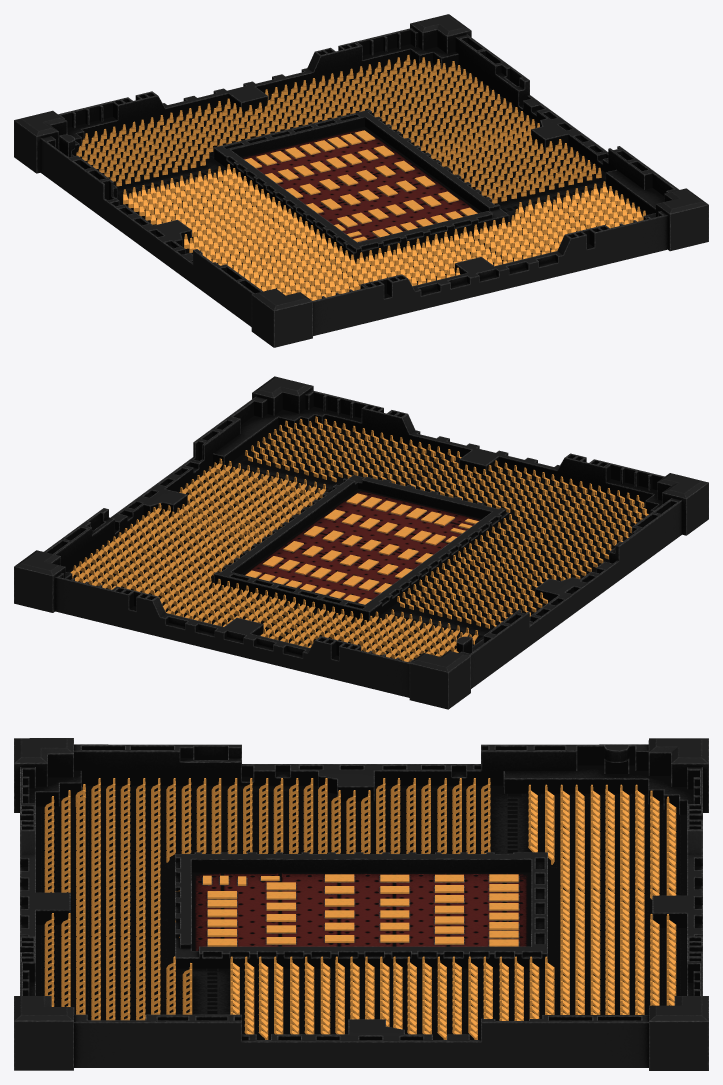
Rendered from cpu.glb.
The picture shows the model from 3 angles, top to bottom: view 1: azimuth 30°, elevation 25°; view 2: azimuth 150°, elevation 25°; view 3: azimuth 270°, elevation 25°; orthographic projection. The views are drawn at different scales.
Visible parts, largest first — view 1: Socket Body, Socket Pins; view 2: Socket Body, Socket Pins; view 3: Socket Body, Socket Pins.
Boxes of the visible parts, left/top/right/bottom form: Socket Body: left=14, top=14, right=708, bottom=347; Socket Pins: left=76, top=55, right=645, bottom=300; Socket Body: left=14, top=376, right=708, bottom=709; Socket Pins: left=70, top=416, right=648, bottom=661; Socket Body: left=14, top=738, right=708, bottom=1070; Socket Pins: left=44, top=778, right=676, bottom=1039.
Size of the model in its own units: 0.6766 by 0.0589 by 0.701.
Materials: 1 (1 with a texture image).
